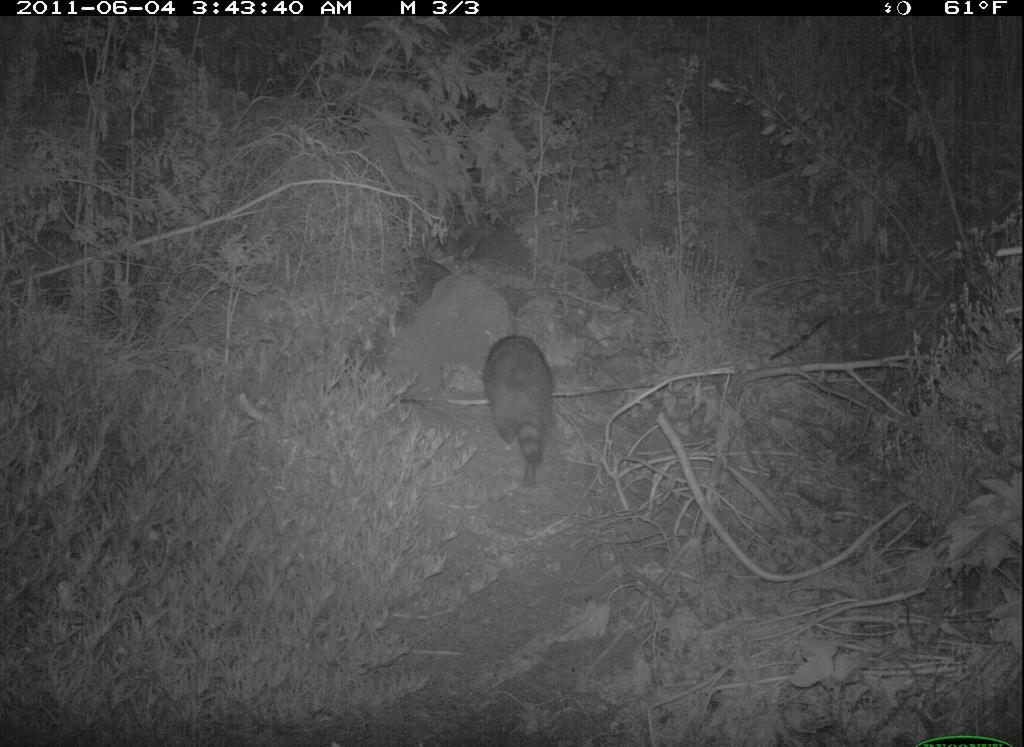raccoon: (481, 328, 562, 479)
